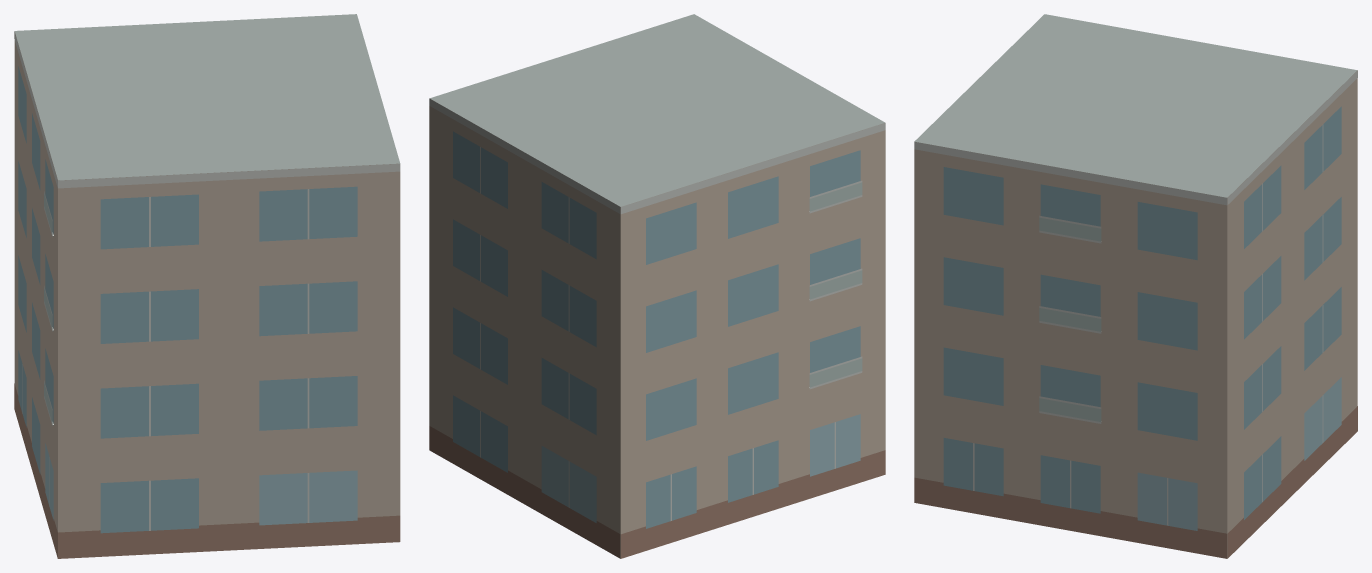
Rendered from survey-upis-32529908.glb.
3 views of the same model, side by side, from view 1: azimuth 30°, elevation 25°; view 2: azimuth 150°, elevation 25°; view 3: azimuth 270°, elevation 25° (orthographic). The views are drawn at different scales.
Parts seen in each view (by area): view 1: survey-upis-32529908.tmp; view 2: survey-upis-32529908.tmp; view 3: survey-upis-32529908.tmp.
Part boxes in pixels (x1,y1,x2,y2): survey-upis-32529908.tmp: (14, 14, 400, 558); survey-upis-32529908.tmp: (429, 14, 885, 558); survey-upis-32529908.tmp: (914, 14, 1357, 558).
Bounding box in the file's own units: 12.62 × 11.55 × 12.87.
